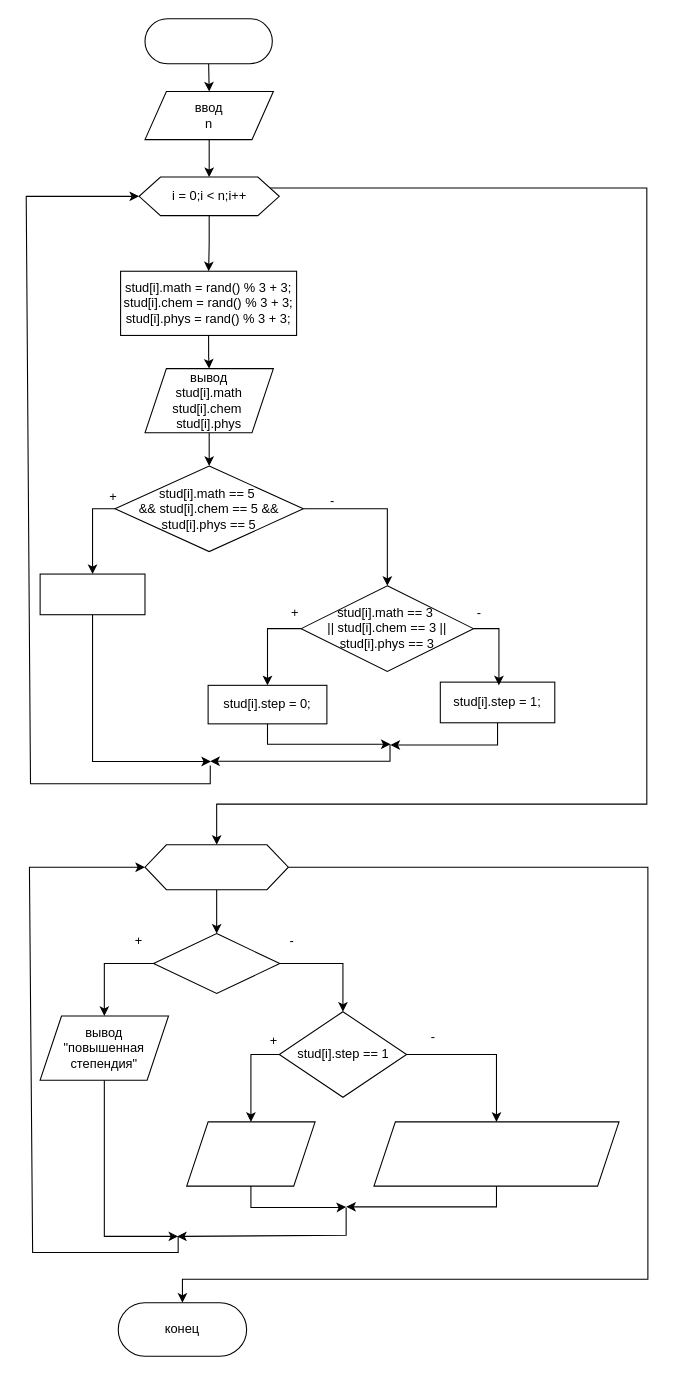
Some shapes in this 675 by 1375 pixel diagram are drawn without their labels. Each missing label, with the box of its shape:
i = 0; i < n; i++: (144, 844, 288, 890)
stud[i].step = 2;: (39, 573, 145, 615)
stud[i].step == 2: (152, 933, 280, 993)
вывод "НЕТ СТЕПЕНДИИ!!!!!!!!!!!!!!!!!!!!!!!!!": (373, 1121, 619, 1186)
вывод "обычная степендия": (186, 1121, 315, 1186)
начало: (144, 18, 272, 64)
